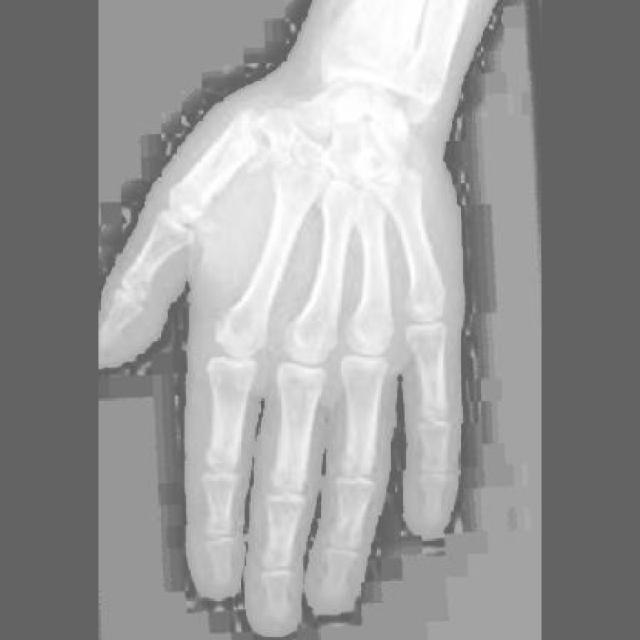Fracture: (217, 109, 285, 185)
